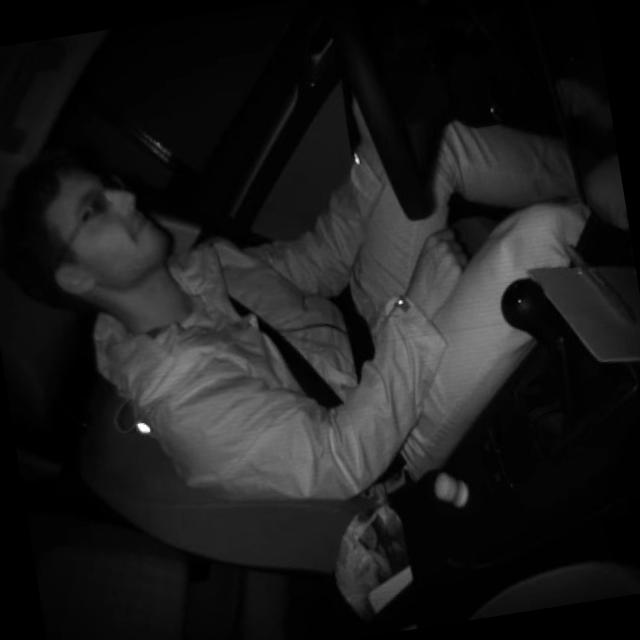pen: (561, 228, 640, 337)
